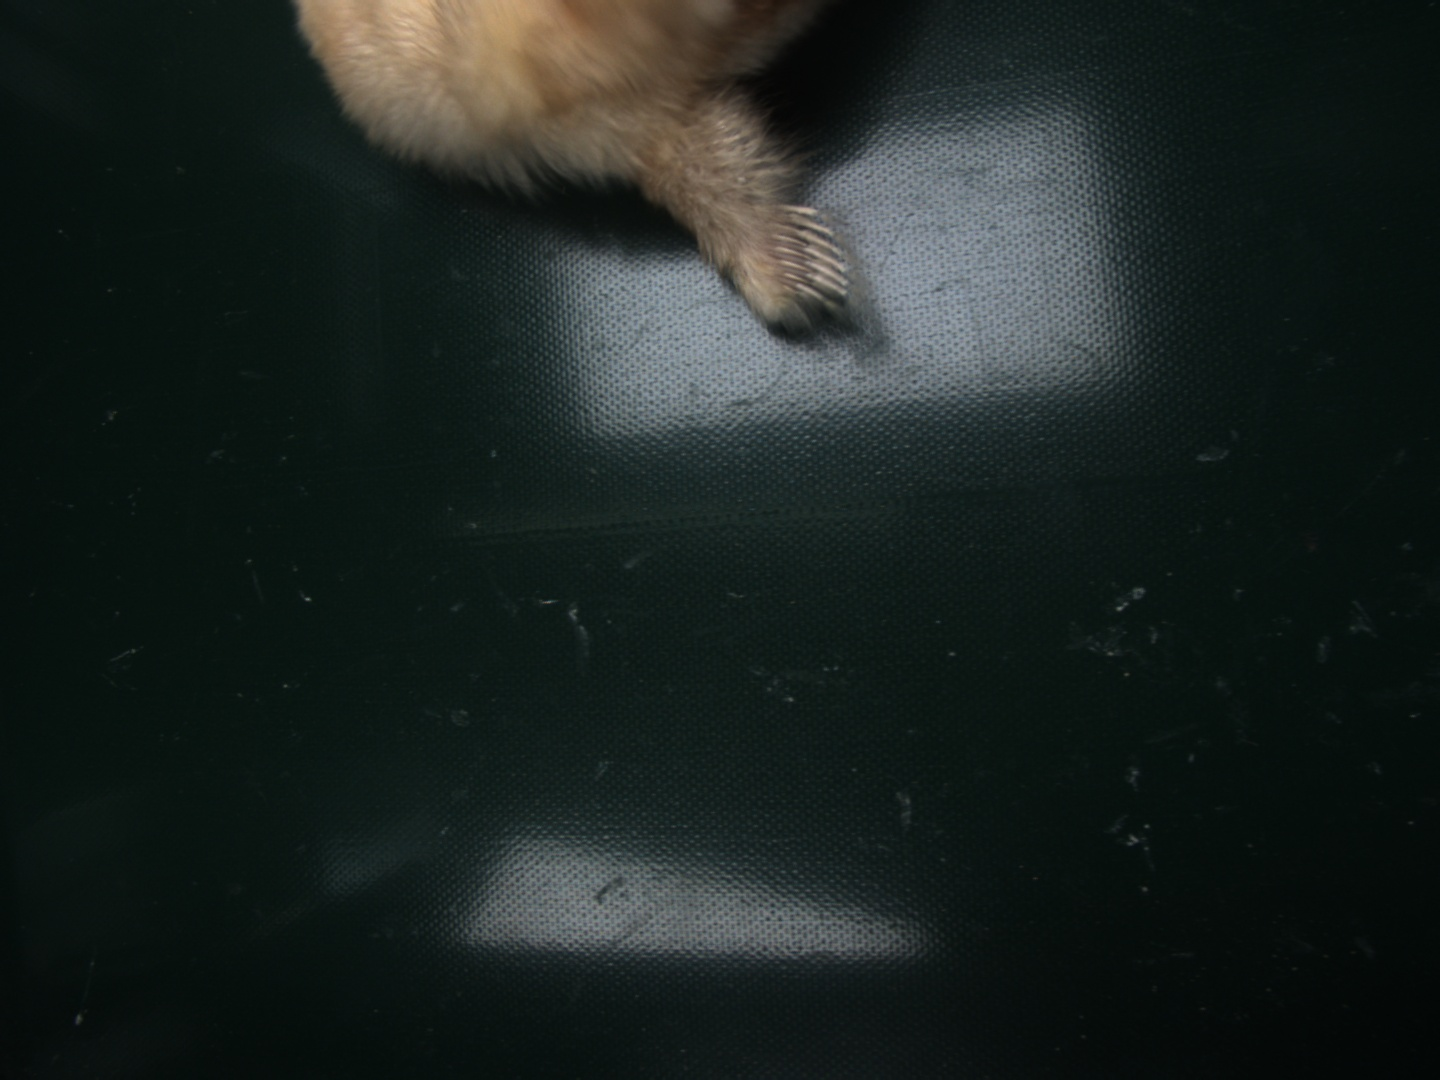female: (759, 202, 847, 301)
